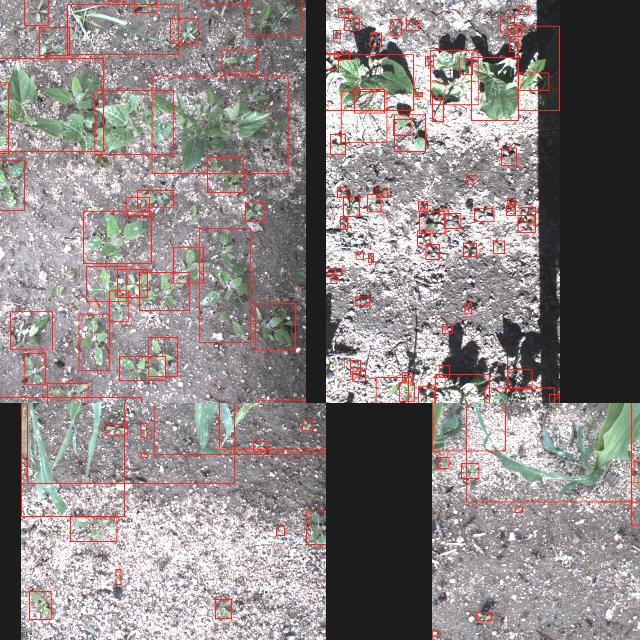crop: (465, 403, 640, 501), (26, 403, 234, 482), (150, 75, 288, 173), (20, 403, 123, 515), (0, 57, 102, 150), (153, 403, 326, 453), (94, 90, 174, 154), (219, 403, 326, 448), (326, 54, 413, 109), (431, 403, 504, 450), (518, 26, 558, 110), (472, 56, 518, 120), (430, 50, 478, 104), (435, 373, 489, 403), (483, 387, 554, 403), (398, 382, 414, 400), (549, 393, 559, 403)
weed: (198, 227, 250, 341), (66, 4, 178, 54), (83, 210, 151, 262), (340, 91, 386, 141), (255, 302, 295, 350), (246, 0, 302, 34), (139, 272, 189, 310), (78, 313, 110, 369), (10, 312, 52, 348), (85, 266, 125, 300), (207, 156, 243, 192), (0, 159, 23, 209), (148, 336, 176, 376), (119, 356, 165, 380), (70, 516, 116, 540), (173, 246, 203, 282), (394, 114, 424, 150), (46, 382, 88, 402), (117, 269, 147, 297), (38, 27, 68, 55), (375, 376, 407, 402), (221, 49, 257, 71), (354, 88, 384, 112), (306, 510, 326, 544), (170, 18, 198, 42), (108, 290, 128, 322), (23, 353, 44, 383), (28, 591, 50, 619), (137, 190, 173, 206), (23, 0, 47, 24), (518, 72, 548, 90), (420, 211, 444, 233), (506, 369, 532, 388), (125, 197, 149, 215), (244, 201, 264, 221), (343, 196, 359, 216), (215, 598, 231, 618), (417, 385, 433, 403), (518, 214, 534, 232), (393, 119, 411, 135), (460, 462, 478, 478), (474, 207, 494, 221), (330, 134, 344, 154), (444, 212, 461, 228), (134, 0, 156, 12), (520, 206, 536, 222), (432, 97, 442, 121), (366, 193, 380, 210), (502, 148, 516, 164), (500, 15, 514, 31), (105, 424, 127, 434), (416, 230, 429, 246), (425, 244, 439, 258), (462, 242, 476, 256), (506, 24, 522, 36), (460, 58, 472, 74), (326, 53, 337, 69), (389, 20, 401, 34), (369, 32, 381, 46), (344, 18, 358, 30), (633, 460, 640, 482), (350, 360, 360, 374), (334, 50, 348, 60), (253, 441, 267, 451), (436, 457, 448, 468), (354, 296, 370, 304), (352, 370, 364, 380), (439, 364, 449, 376), (494, 240, 504, 252), (375, 187, 387, 197), (336, 186, 346, 198), (406, 20, 418, 30), (476, 612, 490, 620), (326, 267, 341, 274), (506, 205, 516, 215), (302, 420, 312, 430), (339, 216, 347, 228), (402, 372, 412, 381), (442, 323, 452, 332), (326, 273, 336, 282), (140, 422, 146, 436), (464, 303, 472, 313), (506, 198, 516, 206), (509, 41, 517, 51), (518, 6, 528, 14), (425, 55, 433, 65), (338, 8, 348, 16), (418, 201, 427, 209), (466, 174, 474, 183), (332, 30, 340, 38), (116, 568, 120, 584), (276, 526, 284, 534), (355, 252, 363, 258), (514, 506, 522, 512), (368, 252, 372, 262), (438, 209, 448, 213), (414, 92, 422, 96), (141, 453, 147, 457), (432, 629, 436, 635)
